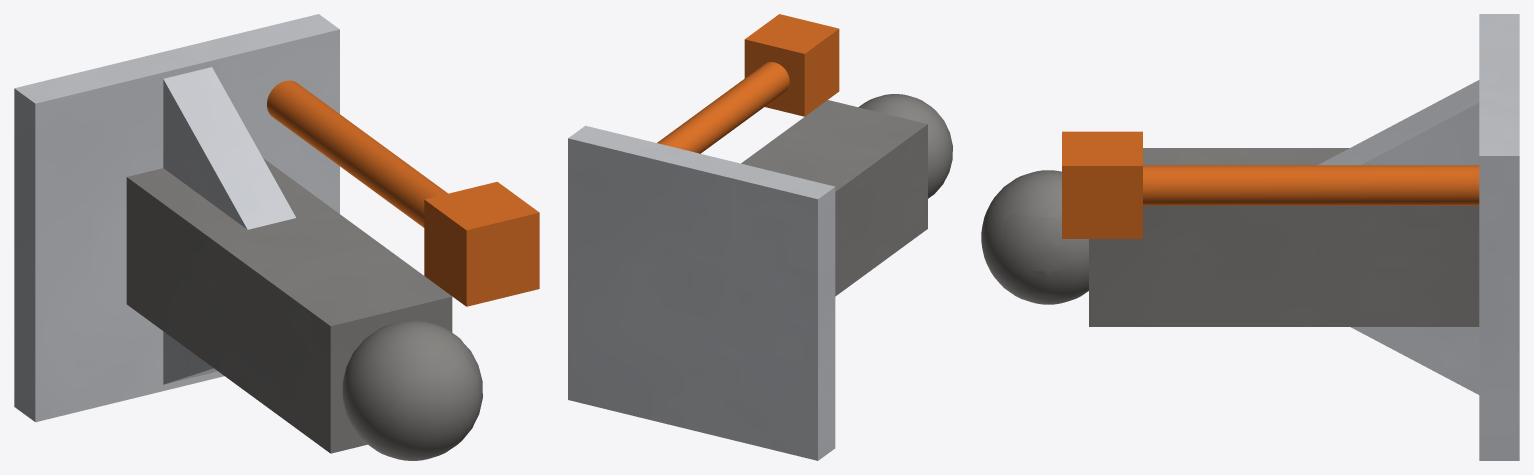
The model's file is rover37_hitch_coupler_active.glb.
3 views of the same model, side by side, from view 1: azimuth 30°, elevation 25°; view 2: azimuth 150°, elevation 25°; view 3: azimuth 270°, elevation 25° (orthographic). The views are drawn at different scales.
Visible parts, largest first — view 1: mount_plate, drawbar, umbilical, hitch_ball, gussets; view 2: mount_plate, drawbar, umbilical, hitch_ball; view 3: drawbar, umbilical, mount_plate, gussets, hitch_ball.
Part boxes in pixels (x1=…): mount_plate: x1=14, y1=14, x2=339, y2=422; drawbar: x1=126, y1=158, x2=452, y2=453; umbilical: x1=267, y1=80, x2=539, y2=306; hitch_ball: x1=342, y1=320, x2=482, y2=460; gussets: x1=163, y1=67, x2=295, y2=384; mount_plate: x1=568, y1=125, x2=835, y2=460; drawbar: x1=741, y1=100, x2=927, y2=296; umbilical: x1=657, y1=14, x2=839, y2=153; hitch_ball: x1=858, y1=94, x2=952, y2=198; drawbar: x1=1089, y1=148, x2=1479, y2=326; umbilical: x1=1062, y1=131, x2=1479, y2=238; mount_plate: x1=1479, y1=14, x2=1519, y2=460; gussets: x1=1318, y1=80, x2=1479, y2=394; hitch_ball: x1=981, y1=170, x2=1088, y2=304.
Bounding box in the file's own units: 0.25 × 0.25 × 0.4.
3 materials, 2 textured.
